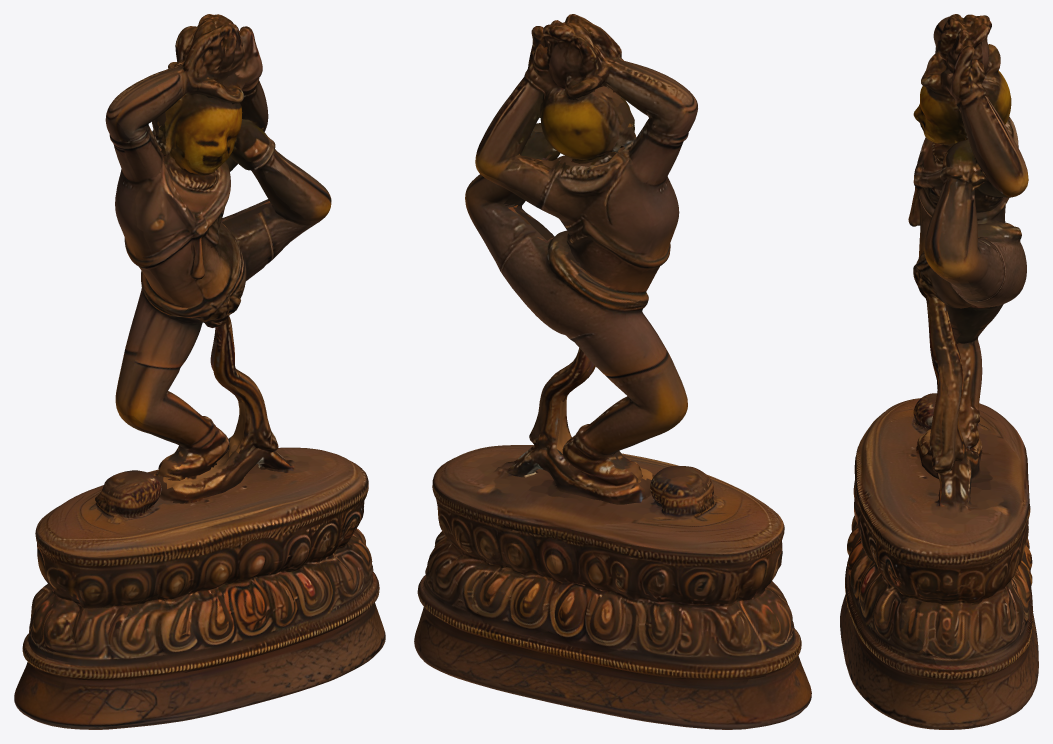
3 renders of one model, left to right at view 1: azimuth 30°, elevation 25°; view 2: azimuth 150°, elevation 25°; view 3: azimuth 270°, elevation 25°, orthographic. The views are drawn at different scales.
Visible parts, largest first — view 1: textured_mesh; view 2: textured_mesh; view 3: textured_mesh.
Boxes of the visible parts, <box> form: textured_mesh: <box>14,14,385,729</box>; textured_mesh: <box>414,14,811,729</box>; textured_mesh: <box>840,14,1038,729</box>.
Bounding box in the file's own units: 1.18 × 1.99 × 0.5595.
1 material, 1 textured.
